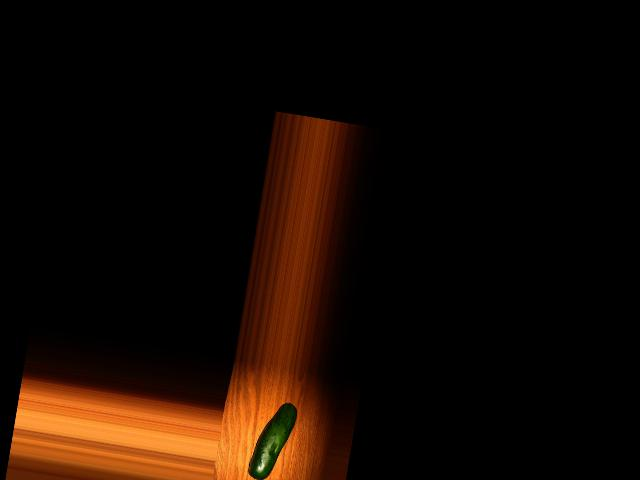cucumber: (246, 397, 298, 480)
